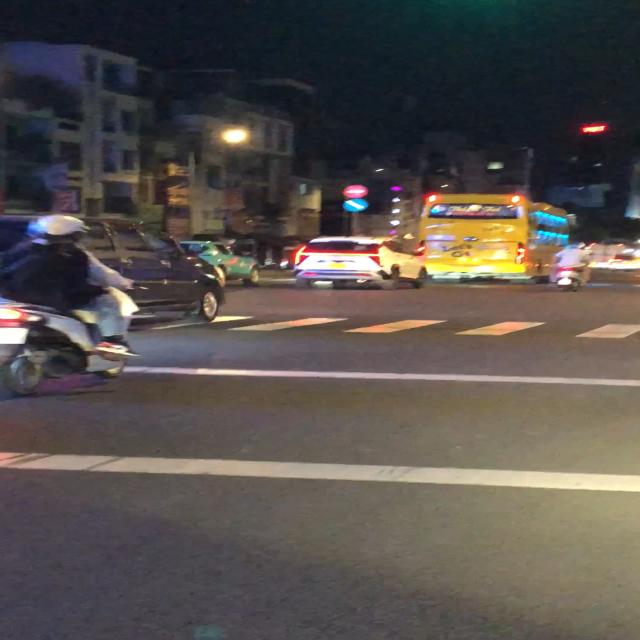Bien bao cam di nguoc chieu: (342, 184, 368, 198)
Bien bao huong phai di vong chuong ngai vat: (342, 198, 369, 213)
